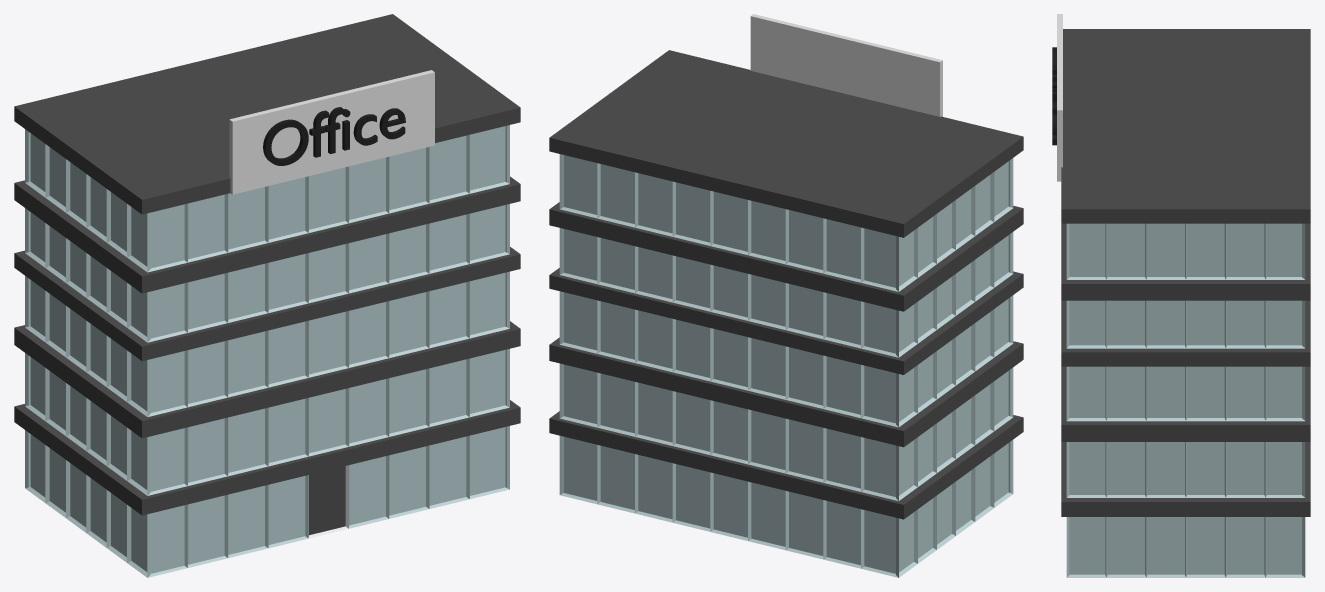
Rendered from Office.fbx.
The picture shows the model from 3 angles, left to right: view 1: azimuth 30°, elevation 25°; view 2: azimuth 150°, elevation 25°; view 3: azimuth 270°, elevation 25°; orthographic projection. The views are drawn at different scales.
Visible parts, largest first — view 1: Cube, Text; view 2: Cube; view 3: Cube, Text.
Part boxes in pixels (x1,y1,x2,y2): Cube: (14,14,520,577); Text: (263,107,405,165); Cube: (549,14,1023,577); Cube: (1057,14,1310,577); Text: (1052,47,1056,145).
Size of the model in its own units: 1084 by 1205 by 657.
